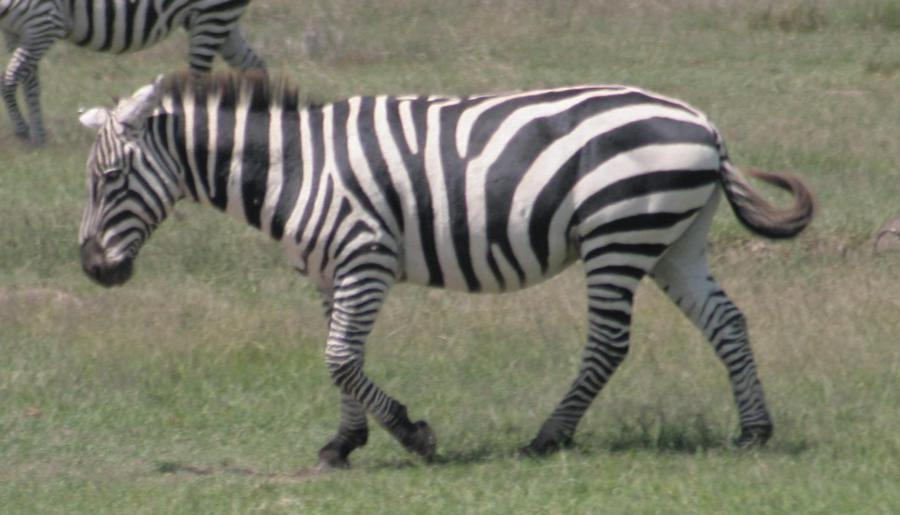zebra_plains: (252, 51, 717, 329)
